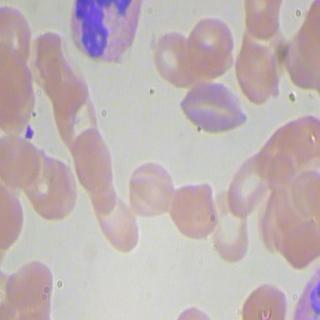Platelets: (22, 122, 37, 140)
RBC: (174, 80, 249, 136), (229, 32, 279, 106), (204, 188, 252, 262), (50, 80, 100, 148), (71, 126, 120, 192), (152, 28, 202, 86), (92, 194, 141, 252), (0, 130, 47, 190), (126, 160, 176, 216), (186, 14, 236, 70), (171, 180, 218, 238), (4, 256, 55, 308), (0, 0, 35, 68), (279, 110, 320, 166), (279, 212, 320, 268), (239, 276, 288, 320)
WBC: (67, 0, 140, 68)
